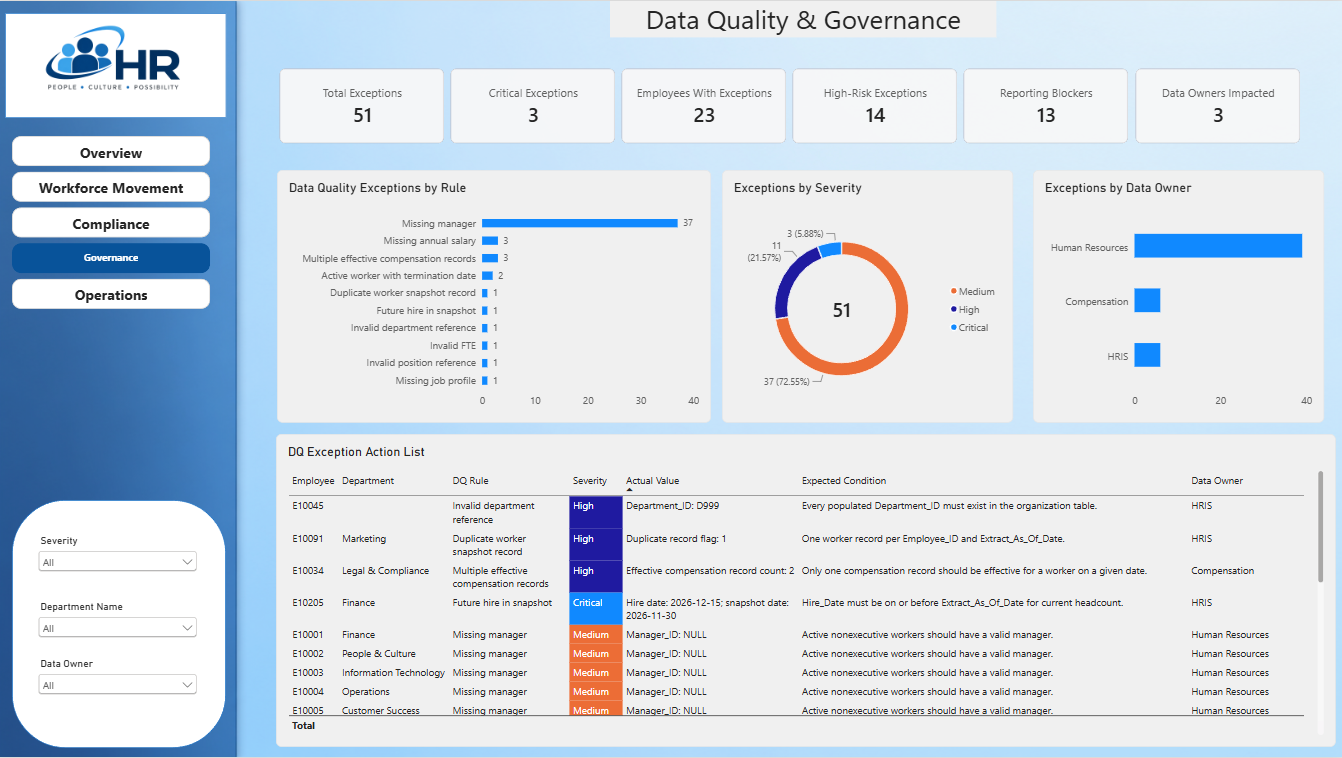

What the dashboard file says about the page in this screenshot:
{"tool":"powerbi","page":{"name":"Governance","canvas":[1920,1080],"ordinal":3},"visuals":[{"type":"shape","box":[8.8,17.7,316.3,150.1],"z":0},{"type":"shape","box":[18.9,712.4,305.7,354.2],"z":1000},{"type":"textbox","box":[872.9,0,552.3,52.2],"z":2000},{"type":"barChart","title":"Data Quality Exceptions by Rule","fields":{"Category":["governed vw_HRDataQualityExceptions.Rule_Name"],"Y":["governed vw_HRDataQualityExceptions.DQ Exception Count"]},"box":[397.1,241.4,620,361.4],"z":3000},{"type":"donutChart","title":"Exceptions by Severity","fields":{"Category":["governed vw_HRDataQualityExceptions.Severity"],"Y":["governed vw_HRDataQualityExceptions.DQ Exception Count"]},"box":[1032.9,241.4,415.7,361.4],"z":4000},{"type":"cardVisual","fields":{"Data":["governed vw_HRDataQualityExceptions.DQ Exception Count"]},"box":[397.2,92.2,242,114.4],"z":5000},{"type":"cardVisual","fields":{"Data":["governed vw_HRDataQualityExceptions.Critical DQ Exceptions"]},"box":[641.7,92.2,242,114.4],"z":6000},{"type":"cardVisual","fields":{"Data":["governed vw_HRDataQualityExceptions.Employees With DQ Exceptions"]},"box":[886.1,92.2,242,114.4],"z":7000},{"type":"cardVisual","fields":{"Data":["governed vw_HRDataQualityExceptions.High-Risk DQ Exceptions"]},"box":[1130.5,92.2,242,114.4],"z":8000},{"type":"cardVisual","fields":{"Data":["governed vw_HRDataQualityExceptions.Reporting Blockers"]},"box":[1374.9,92.2,242,114.4],"z":9000},{"type":"slicer","fields":{"Values":["governed vw_HRDataQualityExceptions.Severity"]},"box":[51.2,762.2,235.7,68.3],"z":10000},{"type":"slicer","fields":{"Values":["governed vw_HRDataQualityExceptions.Department_Name"]},"box":[51.2,857.8,235.7,68.3],"z":11000},{"type":"slicer","fields":{"Values":["governed vw_HRDataQualityExceptions.Data_Owner"]},"box":[51.2,938.6,235.7,68.3],"z":12000},{"type":"image","box":[0,0,325.1,150.1],"z":13000},{"type":"pageNavigator","box":[19.1,192.7,284,250.1],"z":14000},{"type":"cardVisual","fields":{"Data":["governed vw_HRDataQualityExceptions.Data Owners Impacted"]},"box":[1619.4,92.2,242,114.4],"z":15000},{"type":"tableEx","title":"DQ Exception Action List","fields":{"Values":["governed vw_HRDataQualityExceptions.Employee_ID","governed vw_HRDataQualityExceptions.Department_Name","governed vw_HRDataQualityExceptions.Rule_Name","governed vw_HRDataQualityExceptions.Severity","governed vw_HRDataQualityExceptions.Actual_Value","governed vw_HRDataQualityExceptions.Expected_Condition","governed vw_HRDataQualityExceptions.Data_Owner"]},"box":[395.7,618.6,1514.3,447.1],"z":16000},{"type":"barChart","title":"Exceptions by Data Owner","fields":{"Category":["governed vw_HRDataQualityExceptions.Data_Owner"],"Y":["governed vw_HRDataQualityExceptions.DQ Exception Count"]},"box":[1477.1,241.4,415.7,361.4],"z":17000}]}

Visuals, with their boxes in screenshot pixels (x1, y1, x2, y2), scaled from the page's 1920x1080 canvas onto the 1342x758 screenshot:
shape: pyautogui.locateOnScreen(6, 12, 227, 118)
shape: pyautogui.locateOnScreen(13, 500, 227, 749)
textbox: pyautogui.locateOnScreen(610, 0, 996, 37)
"Data Quality Exceptions by Rule" barChart: pyautogui.locateOnScreen(278, 169, 711, 423)
"Exceptions by Severity" donutChart: pyautogui.locateOnScreen(722, 169, 1013, 423)
cardVisual - governed vw_HRDataQualityExceptions.DQ Exception Count: pyautogui.locateOnScreen(278, 65, 447, 145)
cardVisual - governed vw_HRDataQualityExceptions.Critical DQ Exceptions: pyautogui.locateOnScreen(449, 65, 618, 145)
cardVisual - governed vw_HRDataQualityExceptions.Employees With DQ Exceptions: pyautogui.locateOnScreen(619, 65, 788, 145)
cardVisual - governed vw_HRDataQualityExceptions.High-Risk DQ Exceptions: pyautogui.locateOnScreen(790, 65, 959, 145)
cardVisual - governed vw_HRDataQualityExceptions.Reporting Blockers: pyautogui.locateOnScreen(961, 65, 1130, 145)
slicer - governed vw_HRDataQualityExceptions.Severity: pyautogui.locateOnScreen(36, 535, 201, 583)
slicer - governed vw_HRDataQualityExceptions.Department_Name: pyautogui.locateOnScreen(36, 602, 201, 650)
slicer - governed vw_HRDataQualityExceptions.Data_Owner: pyautogui.locateOnScreen(36, 659, 201, 707)
image: pyautogui.locateOnScreen(0, 0, 227, 105)
pageNavigator: pyautogui.locateOnScreen(13, 135, 212, 311)
cardVisual - governed vw_HRDataQualityExceptions.Data Owners Impacted: pyautogui.locateOnScreen(1132, 65, 1301, 145)
"DQ Exception Action List" tableEx: pyautogui.locateOnScreen(277, 434, 1335, 748)
"Exceptions by Data Owner" barChart: pyautogui.locateOnScreen(1032, 169, 1323, 423)
